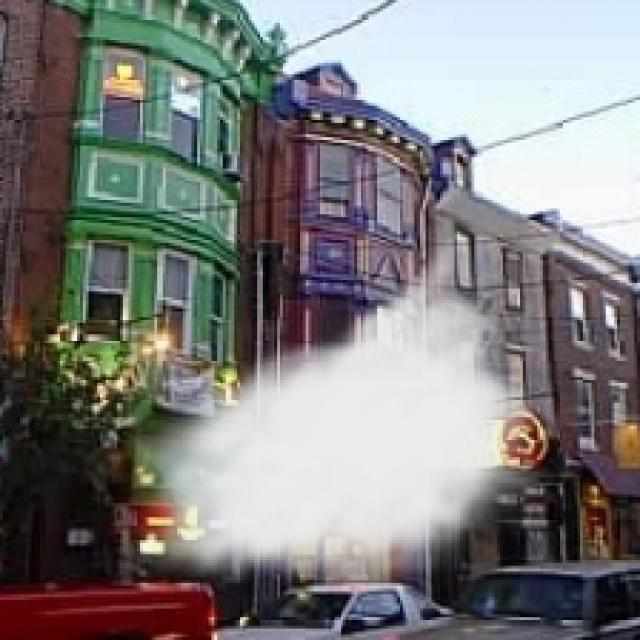Smoke: (122, 223, 548, 600)
